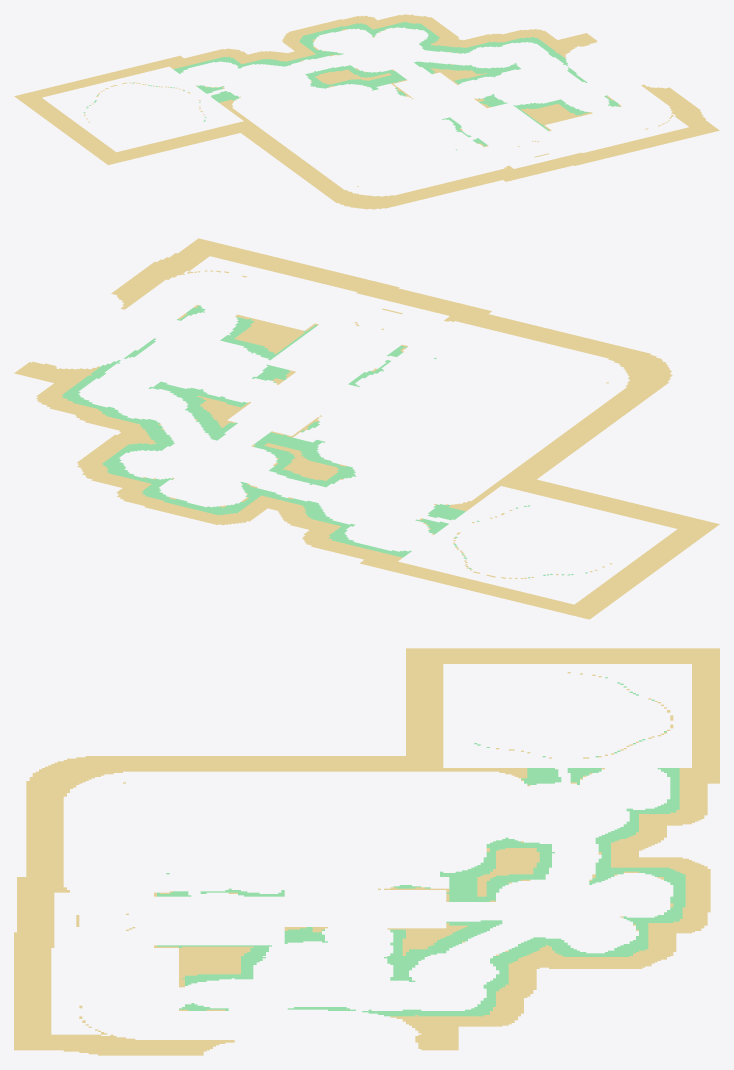
File: auto_fill.glb
3 renders of one model, top to bottom at view 1: azimuth 30°, elevation 25°; view 2: azimuth 150°, elevation 25°; view 3: azimuth 270°, elevation 25°, orthographic. The views are drawn at different scales.
Parts seen in each view (by area): view 1: AutoGround_Margen, AutoForest_Huecos; view 2: AutoGround_Margen, AutoForest_Huecos; view 3: AutoGround_Margen, AutoForest_Huecos.
Part boxes in pixels (x1,y1,x2,y2): AutoGround_Margen: (14,14,719,209); AutoForest_Huecos: (83,22,619,150); AutoGround_Margen: (14,238,719,619); AutoForest_Huecos: (62,305,587,578); AutoGround_Margen: (14,648,719,1055); AutoForest_Huecos: (157,677,685,1016).
Size of the model in its own units: 620 by 0 by 454.
